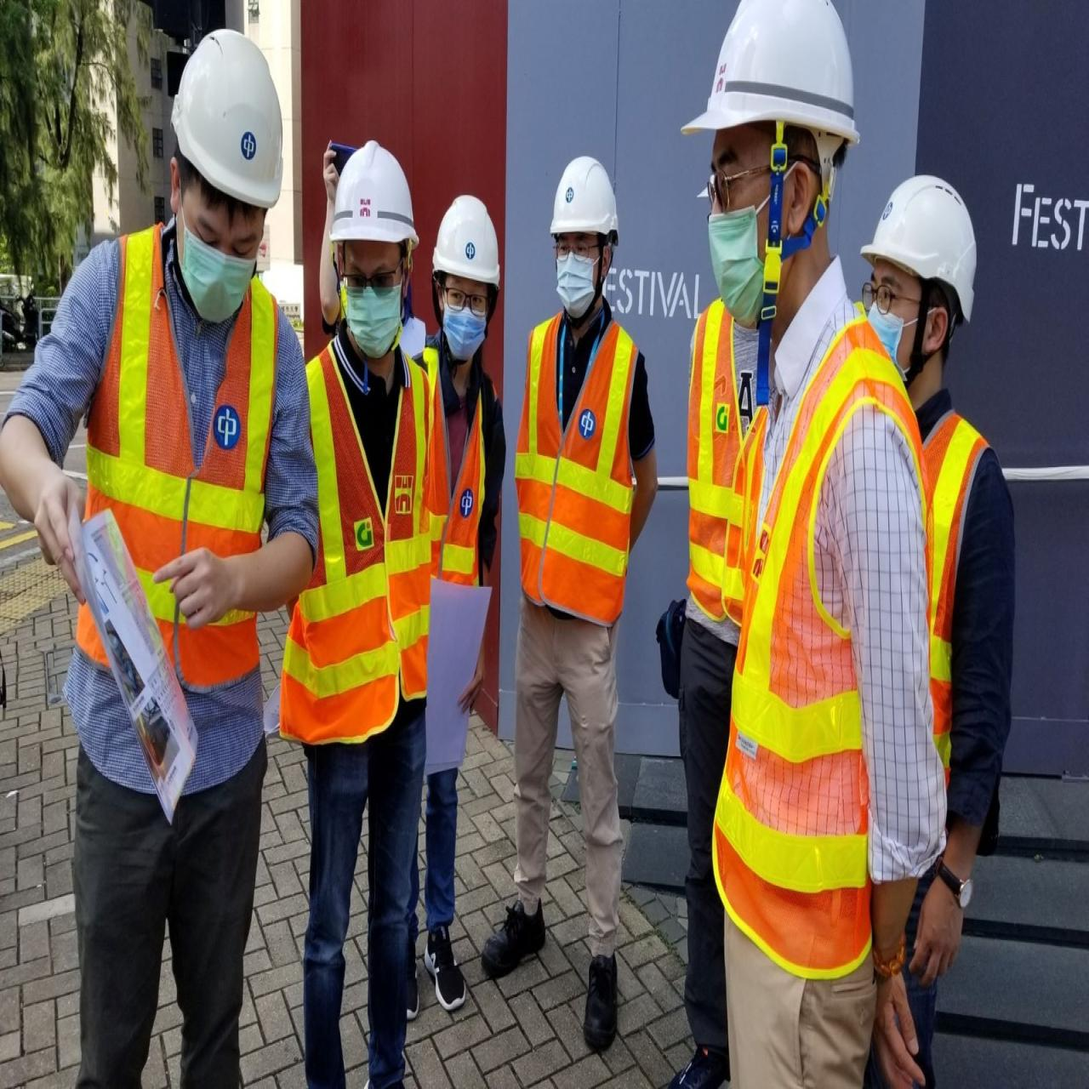Person: (2, 6, 333, 1089), (680, 0, 953, 1089), (476, 136, 678, 1067), (281, 135, 449, 1072), (851, 178, 1013, 1076), (651, 207, 772, 1089), (414, 187, 520, 1018)
Safety_Vest: (708, 305, 925, 980), (48, 206, 275, 801), (287, 333, 437, 767), (901, 392, 1012, 857), (509, 304, 651, 648), (415, 351, 504, 709), (683, 303, 765, 643)
